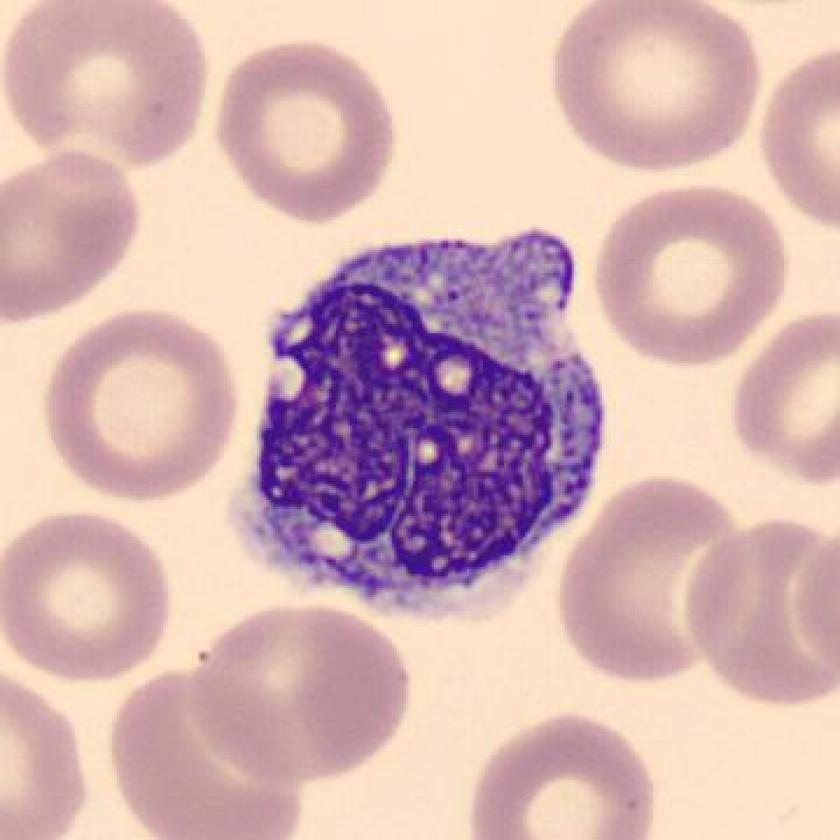monocyte: (220, 209, 622, 633)
